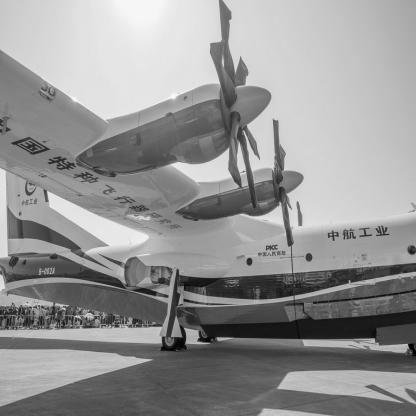AG600: (2, 2, 416, 358)
